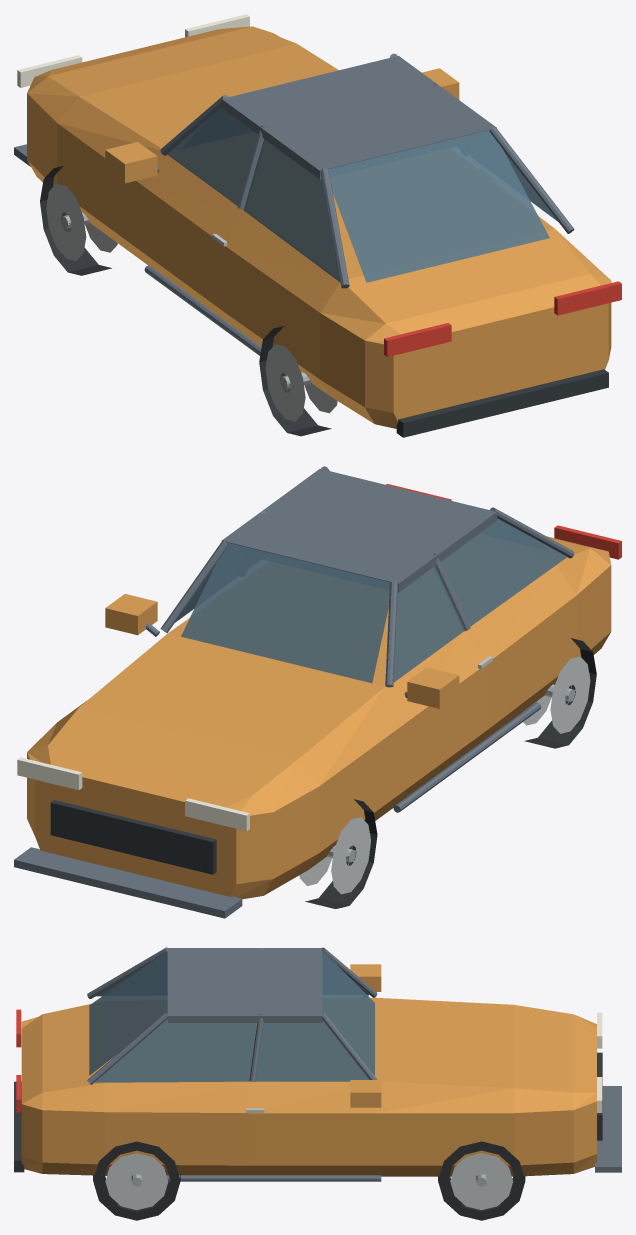
File: valley_wagon.glb
The picture shows the model from 3 angles, top to bottom: view 1: azimuth 30°, elevation 25°; view 2: azimuth 150°, elevation 25°; view 3: azimuth 270°, elevation 25°; orthographic projection. The views are drawn at different scales.
Parts seen in each view (by area): view 1: Body_Shell, Rear_Windshield, Roof, Rear_Quarter_Glass_-1, Door_Glass_-1, Diffuser, Rim_RL, Rim_FL, Mirror_Housing_-1, Tire_RL, Tire_FL, Taillight_1 (+8 smaller); view 2: Body_Shell, Windshield, Roof, Rear_Quarter_Glass_-1, Grille, Splitter, Door_Glass_-1, Rim_FL, Rim_RL, Mirror_Housing_-1, Mirror_Housing_1, Sill_-1 (+8 smaller); view 3: Body_Shell, Roof, Rear_Quarter_Glass_1, Rear_Windshield, Door_Glass_1, Windshield, Rim_RR, Rim_FR, Tire_FR, Tire_RR, Splitter, Sill_1 (+8 smaller).
Part boxes in pixels (x1,y1,x2,y2): Body_Shell: (27,26,611,428); Rear_Windshield: (328,130,549,282); Roof: (221,56,496,179); Rear_Quarter_Glass_-1: (243,139,340,282); Door_Glass_-1: (167,107,257,205); Diffuser: (396,369,608,437); Rim_RL: (265,344,337,421); Rim_FL: (46,183,117,260); Mirror_Housing_-1: (105,142,157,183); Tire_RL: (259,326,331,436); Tire_FL: (40,166,111,275); Taillight_1: (554,281,621,315); Body_Shell: (27,536,611,899); Windshield: (181,542,390,683); Roof: (221,469,496,592); Rear_Quarter_Glass_-1: (440,518,567,626); Grille: (50,800,216,874); Splitter: (14,847,242,918); Door_Glass_-1: (393,566,464,682); Rim_FL: (299,817,370,894); Rim_RL: (523,656,590,733); Mirror_Housing_-1: (407,667,459,708); Mirror_Housing_1: (105,594,157,635); Sill_-1: (393,702,541,812); Body_Shell: (21,997,596,1176); Roof: (167,948,322,1022); Rear_Quarter_Glass_1: (94,1019,256,1082); Rear_Windshield: (89,951,167,1075); Door_Glass_1: (256,1020,368,1081); Windshield: (322,951,374,1075); Rim_RR: (105,1153,168,1209); Rim_FR: (450,1153,513,1209); Tire_FR: (438,1141,525,1220); Tire_RR: (93,1141,180,1220); Splitter: (595,1086,621,1172); Sill_1: (166,1175,381,1181).
Bounding box in the file's own units: 2.36 × 1.6 × 4.73.
